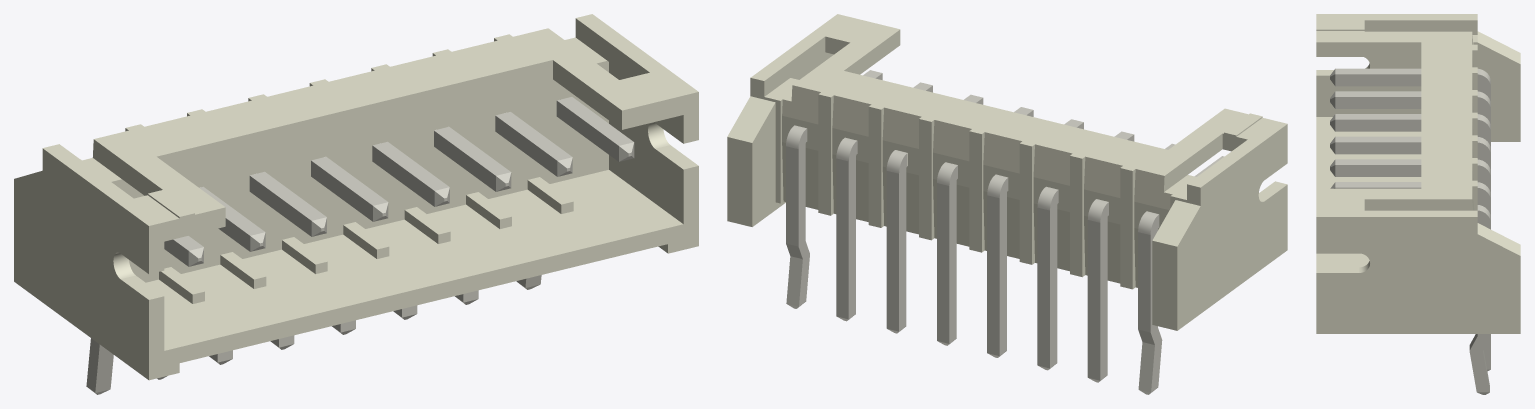
The model's file is kc-jst_ph_s8b-ph-k_1x08_p2.00mm_horizontal.glb.
The picture shows the model from 3 angles, left to right: view 1: azimuth 30°, elevation 25°; view 2: azimuth 150°, elevation 25°; view 3: azimuth 270°, elevation 25°; orthographic projection. The views are drawn at different scales.
Visible parts, largest first — view 1: 0.75_0.75_0.5833333333333334_0, 0.6666666666666666_0.6666666666666666_0.5833333333333334_0.8; view 2: 0.75_0.75_0.5833333333333334_0, 0.6666666666666666_0.6666666666666666_0.5833333333333334_0.8; view 3: 0.75_0.75_0.5833333333333334_0, 0.6666666666666666_0.6666666666666666_0.5833333333333334_0.8.
Part boxes in pixels (box(x1,y1,x2,y2)): 0.75_0.75_0.5833333333333334_0: box(14, 14, 698, 380); 0.6666666666666666_0.6666666666666666_0.5833333333333334_0.8: box(86, 97, 634, 394); 0.75_0.75_0.5833333333333334_0: box(727, 14, 1287, 330); 0.6666666666666666_0.6666666666666666_0.5833333333333334_0.8: box(786, 70, 1224, 394); 0.75_0.75_0.5833333333333334_0: box(1316, 14, 1520, 333); 0.6666666666666666_0.6666666666666666_0.5833333333333334_0.8: box(1330, 68, 1490, 394).
Bounding box in the file's own units: 1.79 × 0.825 × 0.76.
